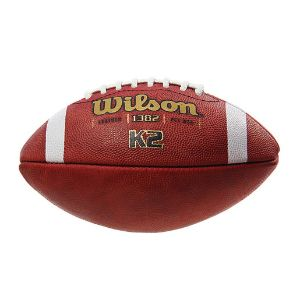futbol americano: (20, 78, 280, 233)
